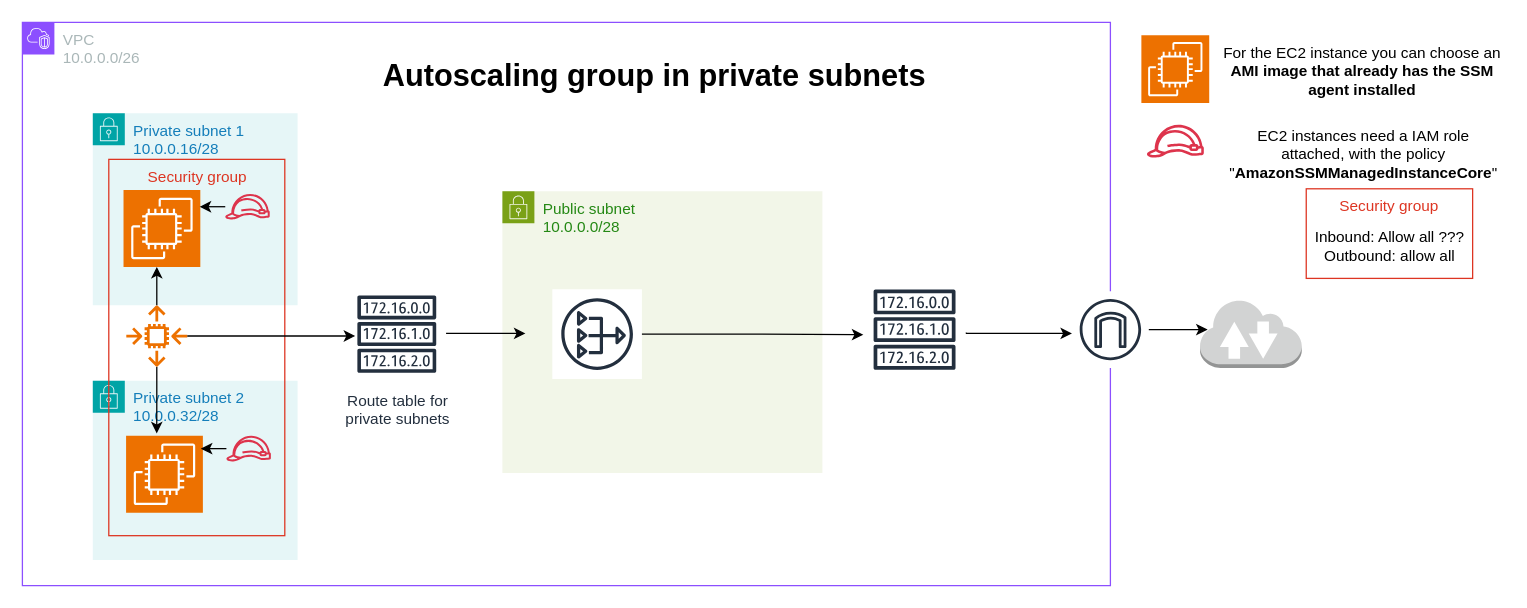
Image size: 1527x608. Some labels were removed from this diagram. The centre of each missing label's shape, as x and y in pixels:
"Internet gateway" goes at (x=1110, y=329).
"NAT gateway Public IP 3.78.51.92 Private IP 10.0.0.5" goes at (x=596, y=333).
"Route table for public subnet" goes at (x=914, y=329).
